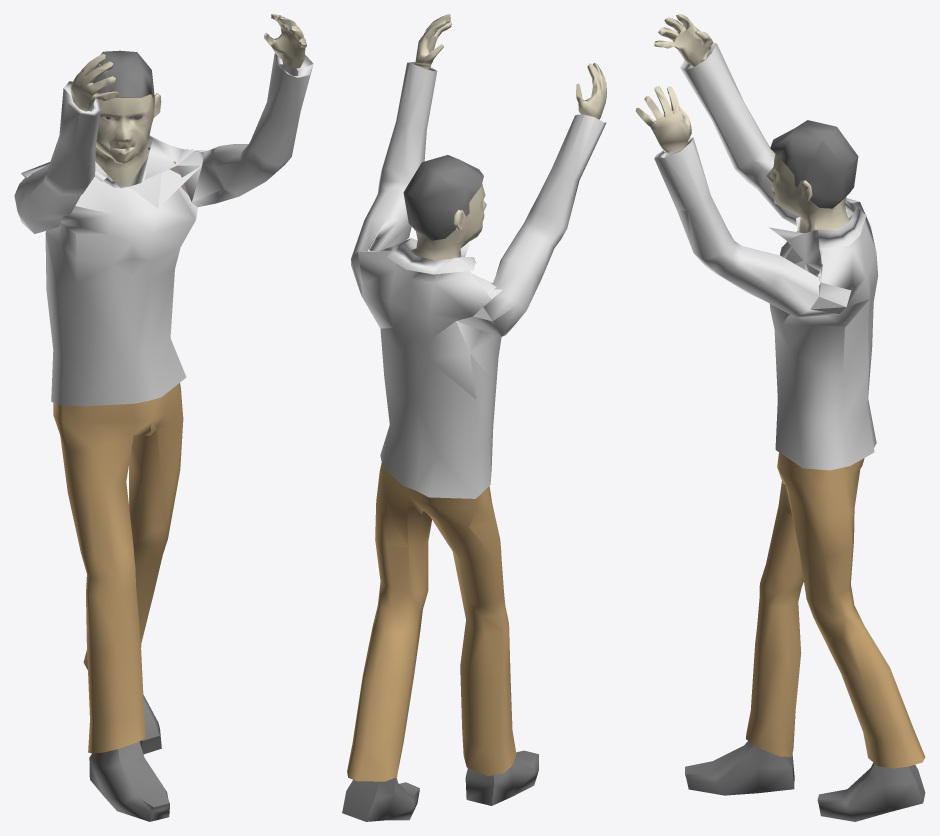
File: persona1.dae
3 views of the same model, side by side, from view 1: azimuth 30°, elevation 25°; view 2: azimuth 150°, elevation 25°; view 3: azimuth 270°, elevation 25° (orthographic). The views are drawn at different scales.
Visible parts, largest first — view 1: material_Shape_Coord_Material__5__Surf, material_Shape_Coord_Material__1__Surf, material_Shape_Coord_Material__6__Surf, material_Shape_Coord_Material__2__Surf, material_Shape_Coord_Material__4__Surf; view 2: material_Shape_Coord_Material__5__Surf, material_Shape_Coord_Material__1__Surf, material_Shape_Coord_Material__2__Surf, material_Shape_Coord_Material__4__Surf, material_Shape_Coord_Material__6__Surf; view 3: material_Shape_Coord_Material__5__Surf, material_Shape_Coord_Material__1__Surf, material_Shape_Coord_Material__2__Surf, material_Shape_Coord_Material__6__Surf, material_Shape_Coord_Material__4__Surf.
Boxes of the visible parts, <box> form: material_Shape_Coord_Material__5__Surf: <box>14,53,313,406</box>; material_Shape_Coord_Material__1__Surf: <box>53,383,183,753</box>; material_Shape_Coord_Material__6__Surf: <box>24,14,306,194</box>; material_Shape_Coord_Material__2__Surf: <box>89,116,169,821</box>; material_Shape_Coord_Material__4__Surf: <box>93,50,154,119</box>; material_Shape_Coord_Material__5__Surf: <box>351,62,606,498</box>; material_Shape_Coord_Material__1__Surf: <box>347,463,516,781</box>; material_Shape_Coord_Material__2__Surf: <box>342,750,538,821</box>; material_Shape_Coord_Material__4__Surf: <box>403,155,483,240</box>; material_Shape_Coord_Material__6__Surf: <box>410,14,606,301</box>; material_Shape_Coord_Material__5__Surf: <box>654,42,878,470</box>; material_Shape_Coord_Material__1__Surf: <box>746,452,925,768</box>; material_Shape_Coord_Material__2__Surf: <box>685,741,925,821</box>; material_Shape_Coord_Material__6__Surf: <box>635,14,852,260</box>; material_Shape_Coord_Material__4__Surf: <box>770,120,858,208</box>.
Size of the model in its own units: 6.44 by 7.3 by 20.8.
